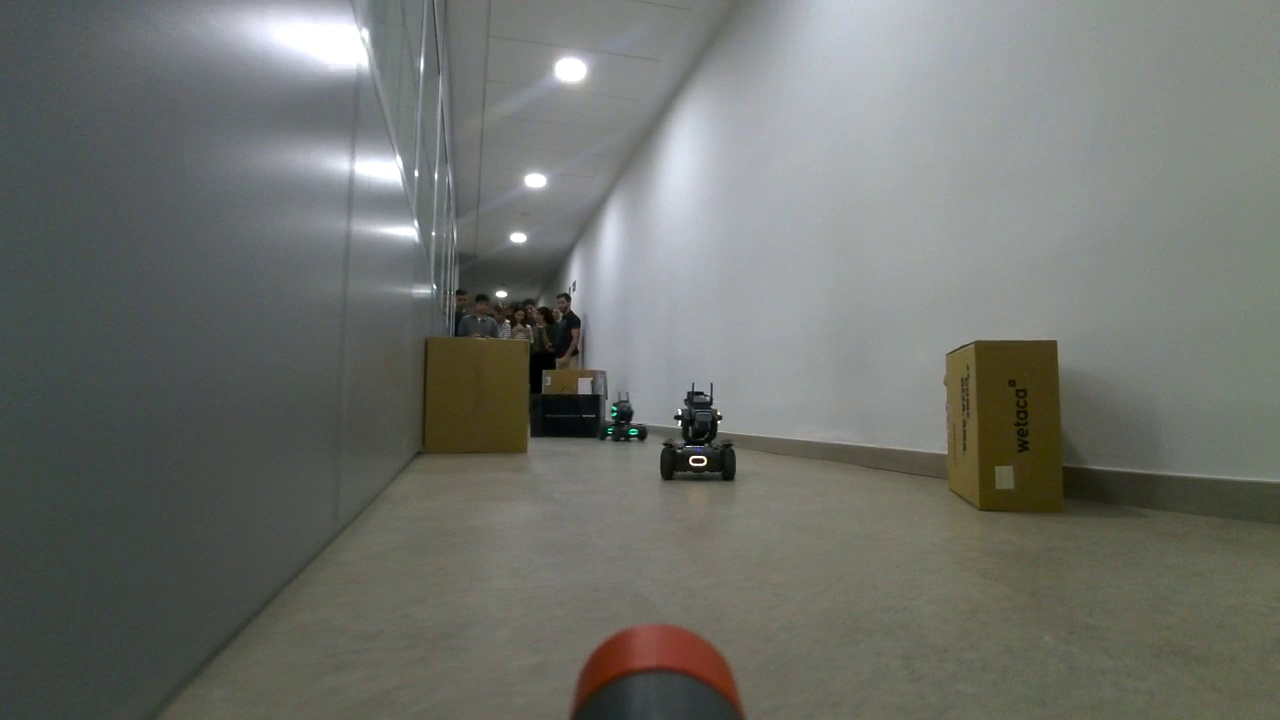robot: (656, 390, 740, 484), (594, 399, 649, 443)
